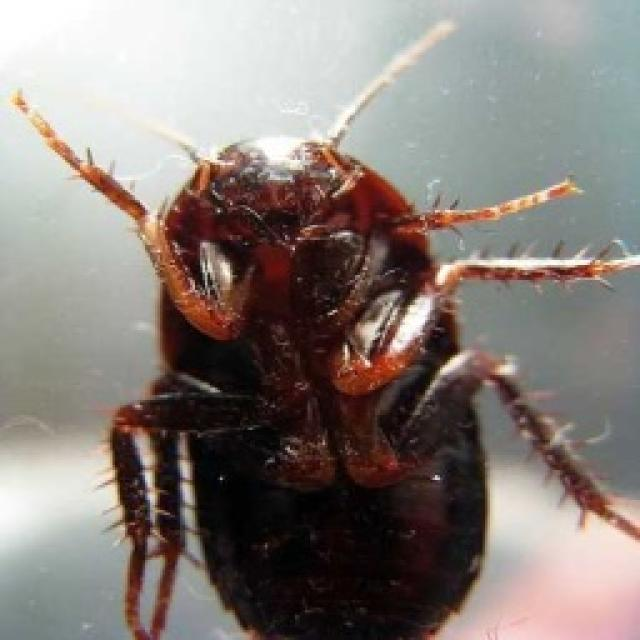cockroach: (14, 67, 639, 640)
